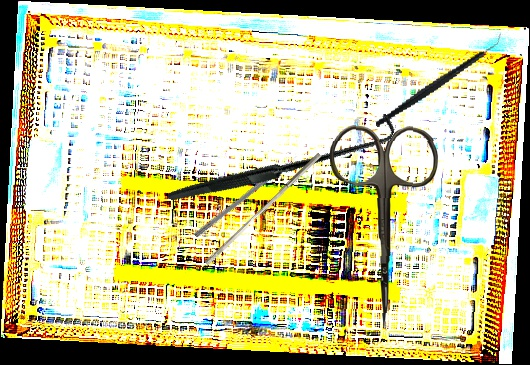Chopper: (361, 31, 516, 128)
Hook Surgical: (166, 45, 400, 273)
Iris Scissors: (327, 125, 440, 329)
Pusher: (203, 148, 323, 270), (193, 154, 300, 239)
